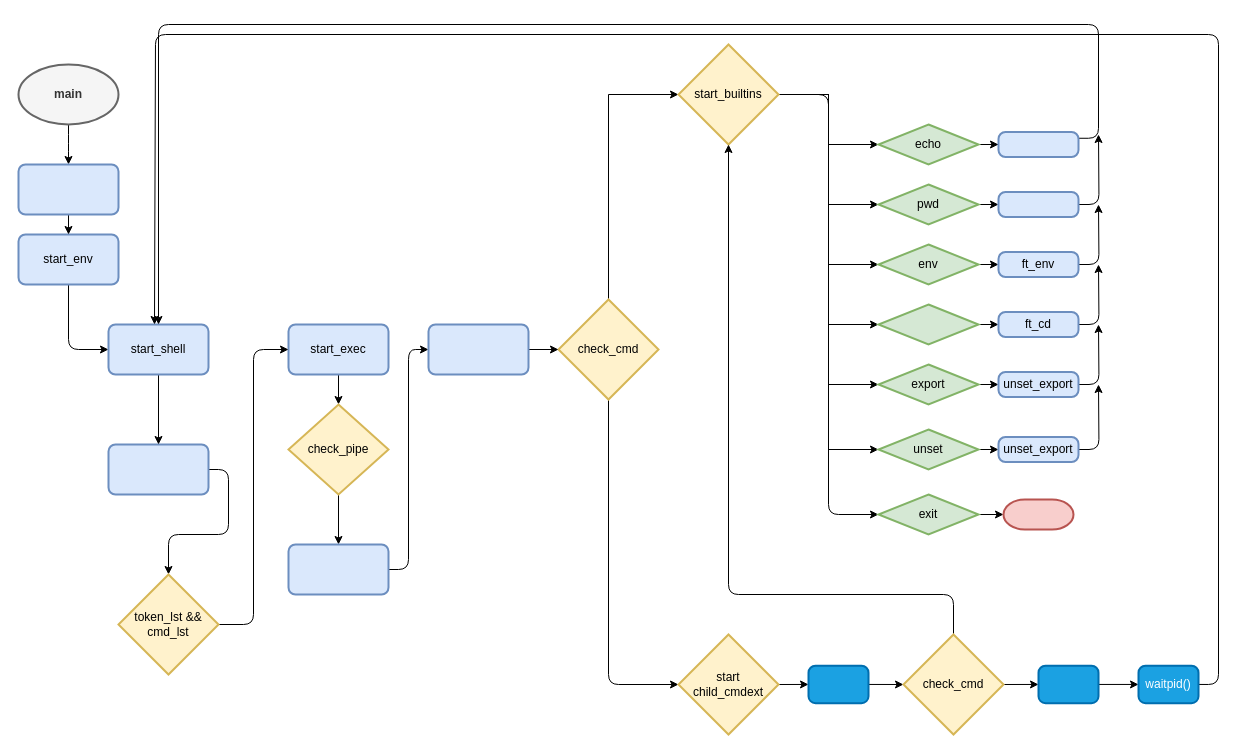
This 1244x753 diagram has some shape labels left out. The box of each missing label's shape, as (x1, y1, x2, y2) in pixels:
cd: (877, 303, 979, 345)
execve(): (1037, 664, 1099, 704)
exit(): (1002, 498, 1074, 530)
fork(): (807, 664, 869, 704)
ft_echo: (997, 130, 1079, 158)
ft_pwd: (997, 190, 1079, 218)
ft_sigaction: (17, 163, 119, 215)
line_parser: (107, 443, 209, 495)
start_cmd: (427, 323, 529, 375)
start_pipes: (287, 543, 389, 595)
